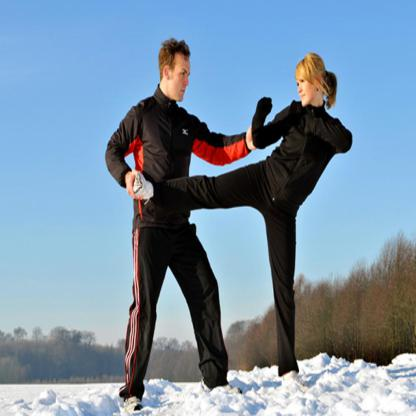face: (170, 61, 191, 101), (297, 73, 316, 107)
